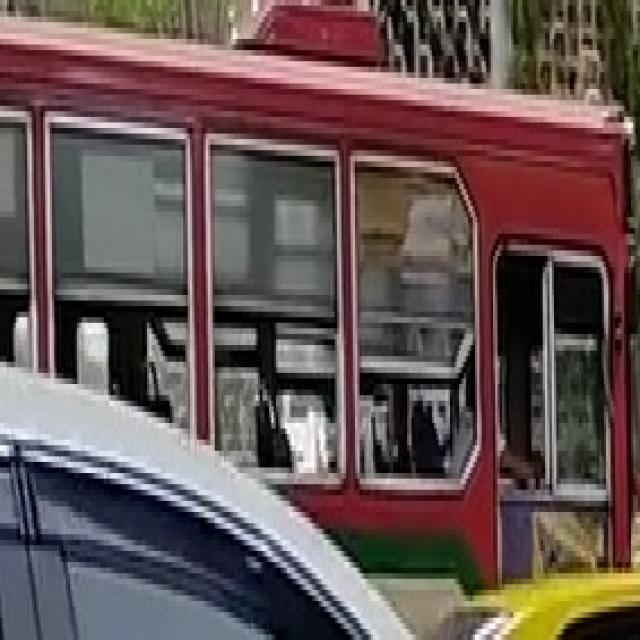door: (0, 5, 633, 590), (493, 234, 613, 579)
